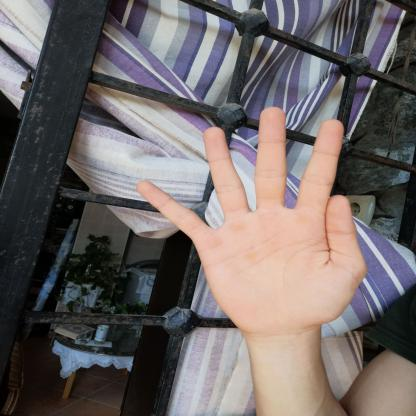SHEEN: (119, 101, 380, 341)
